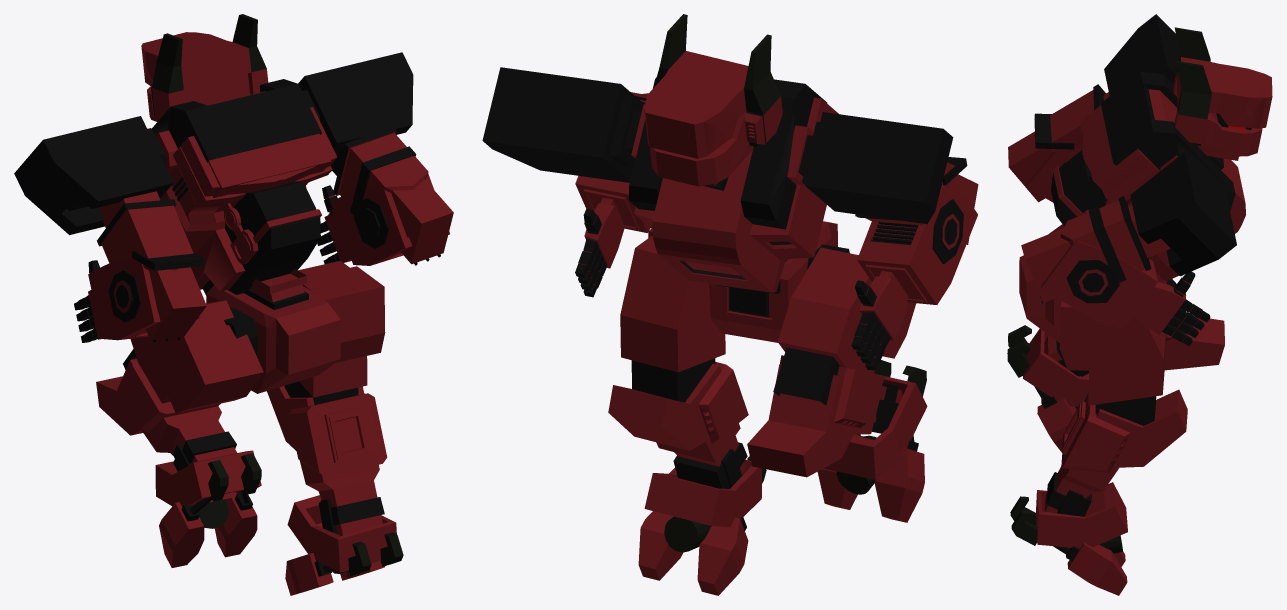
The model's file is walk6.obj.
3 views of the same model, side by side, from view 1: azimuth 30°, elevation 25°; view 2: azimuth 150°, elevation 25°; view 3: azimuth 270°, elevation 25° (orthographic). The views are drawn at different scales.
Parts seen in each view (by area): view 1: R_UpperShoulder_Cube.030; view 2: R_UpperShoulder_Cube.030; view 3: R_UpperShoulder_Cube.030.
Boxes of the visible parts, bbox=[...] form: R_UpperShoulder_Cube.030: bbox=[14, 14, 453, 595]; R_UpperShoulder_Cube.030: bbox=[482, 14, 978, 595]; R_UpperShoulder_Cube.030: bbox=[1007, 14, 1272, 595].
Size of the model in its own units: 1.43 by 1.95 by 0.9272.
